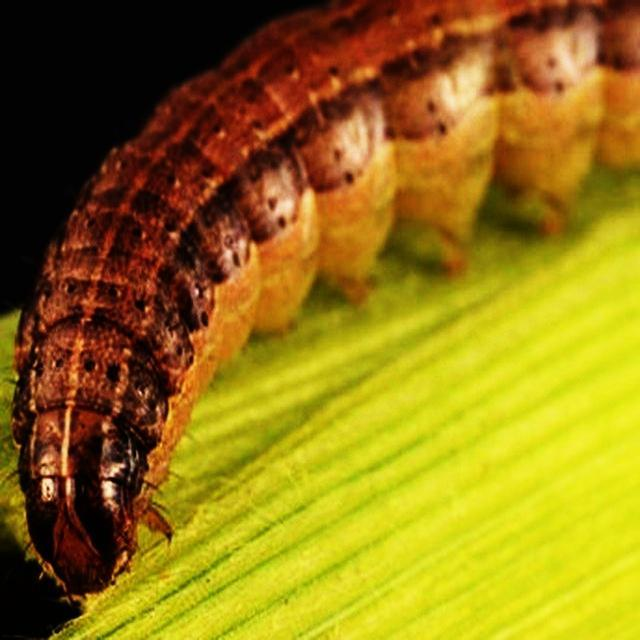Plaga: (1, 1, 640, 606)
